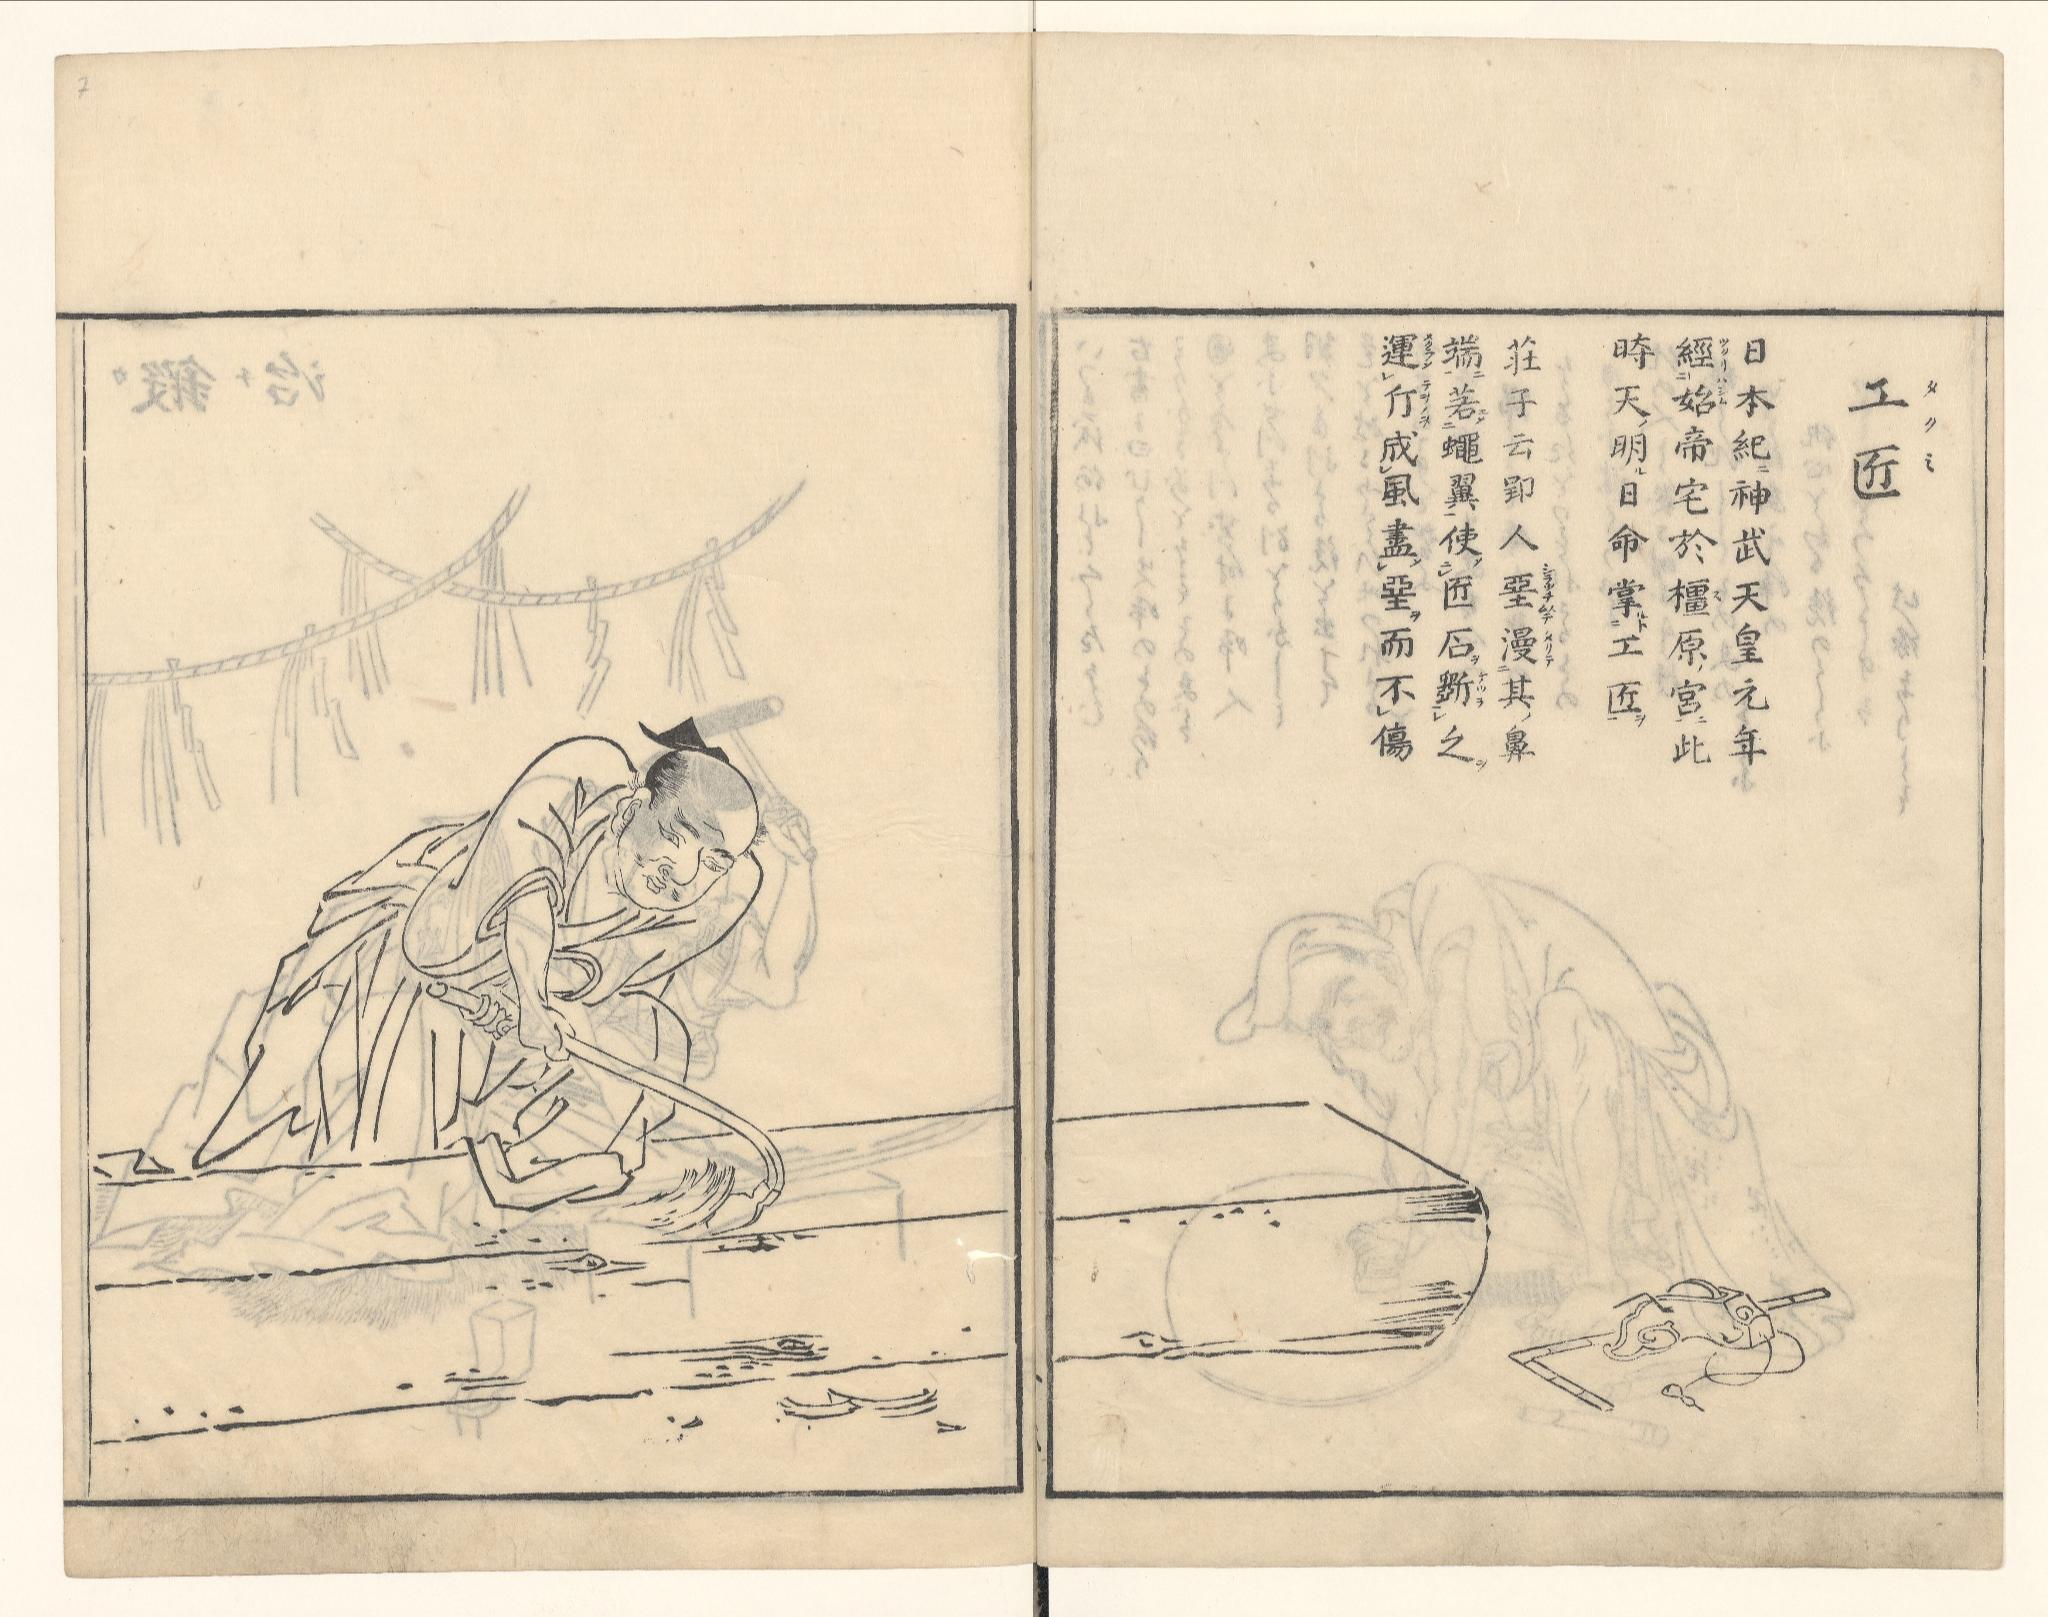MainZone-Character: (1844, 440, 1947, 505), (1845, 367, 1945, 434), (1370, 327, 1440, 382), (1496, 562, 1559, 622), (1376, 376, 1436, 437), (1669, 334, 1735, 387), (1496, 623, 1559, 676), (1666, 573, 1727, 622), (1426, 666, 1493, 710), (1669, 374, 1732, 419)
MainZone-Ruby: (1539, 562, 1558, 620), (1922, 374, 1938, 432), (1543, 627, 1556, 668), (1421, 377, 1431, 429), (1717, 336, 1730, 372), (1476, 670, 1488, 708), (1423, 331, 1435, 369), (1923, 449, 1938, 475), (1716, 377, 1729, 407), (1712, 588, 1722, 603)
